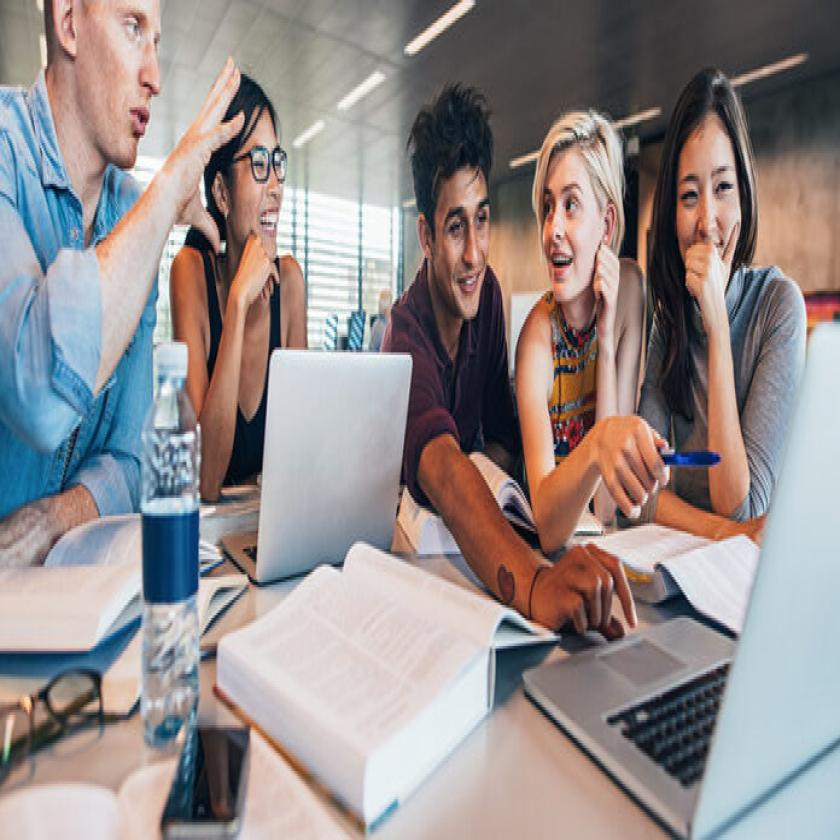Sin_casco: (403, 73, 500, 341), (32, 0, 167, 157), (667, 62, 754, 295), (541, 97, 623, 303), (212, 72, 289, 279)
